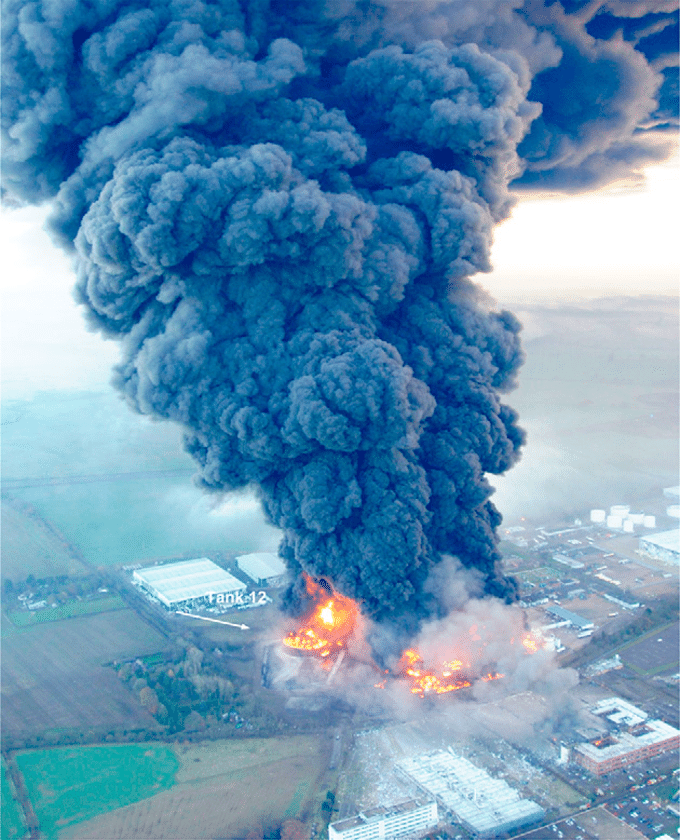fire: (283, 589, 347, 656), (395, 642, 474, 695)
